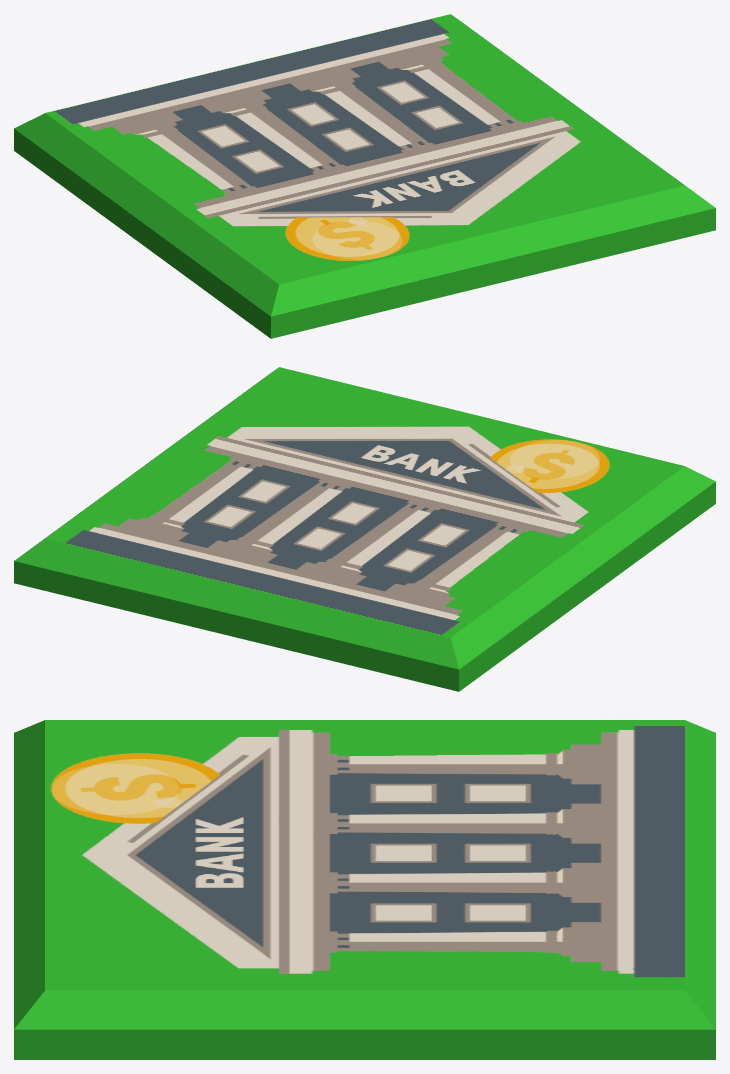
The model's file is Tile_Bank.fbx.
The picture shows the model from 3 angles, top to bottom: view 1: azimuth 30°, elevation 25°; view 2: azimuth 150°, elevation 25°; view 3: azimuth 270°, elevation 25°; orthographic projection. The views are drawn at different scales.
Parts seen in each view (by area): view 1: Cube; view 2: Cube; view 3: Cube.
Boxes of the visible parts, x1=… form: Cube: x1=14, y1=14, x2=715, y2=338; Cube: x1=14, y1=367, x2=715, y2=691; Cube: x1=14, y1=720, x2=715, y2=1059.
Size of the model in its own units: 200 by 17.71 by 200.
Materials: 2 (1 with a texture image).
